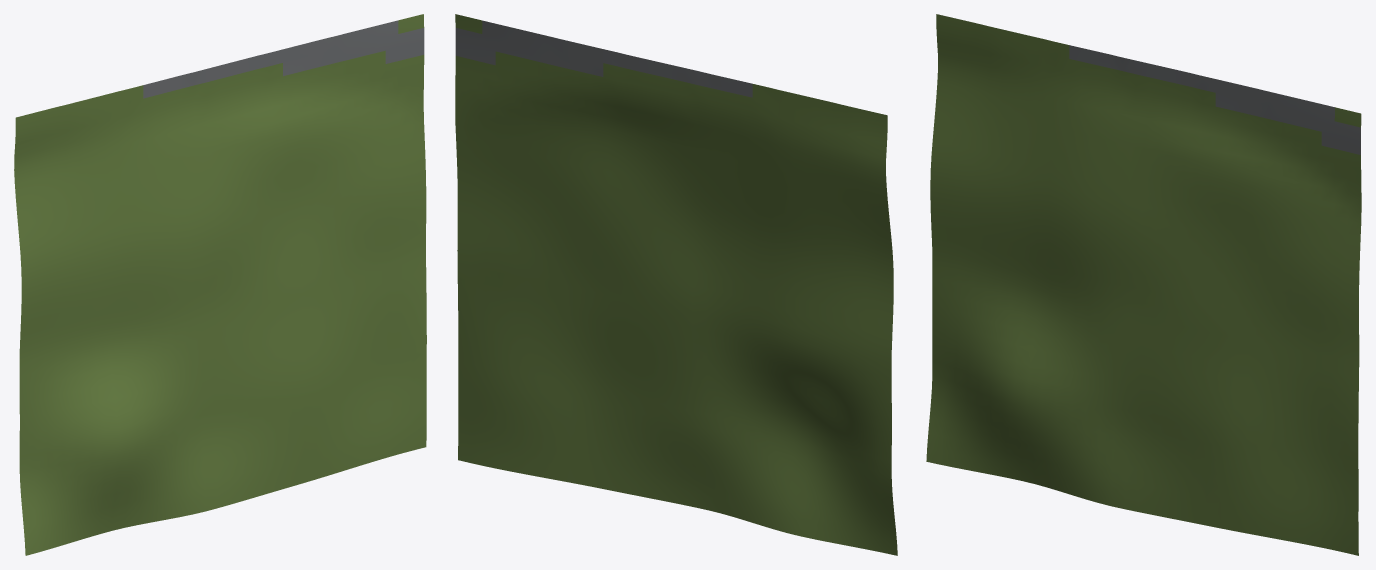
File: island_terrain_04_08.obj
The picture shows the model from 3 angles, left to right: view 1: azimuth 30°, elevation 25°; view 2: azimuth 150°, elevation 25°; view 3: azimuth 330°, elevation 25°; orthographic projection. The views are drawn at different scales.
Parts seen in each view (by area): view 1: island_terrain_04_08; view 2: island_terrain_04_08; view 3: island_terrain_04_08.
Part boxes in pixels (x1,y1,x2,y2): island_terrain_04_08: [14, 14, 426, 555]; island_terrain_04_08: [455, 14, 897, 555]; island_terrain_04_08: [926, 14, 1361, 555].
Bounding box in the file's own units: 256 × 256 × 19.41.
